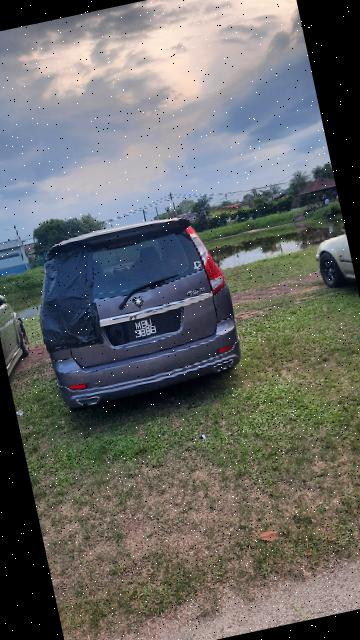License_Plate: (98, 305, 195, 350)
car: (20, 201, 250, 416)
